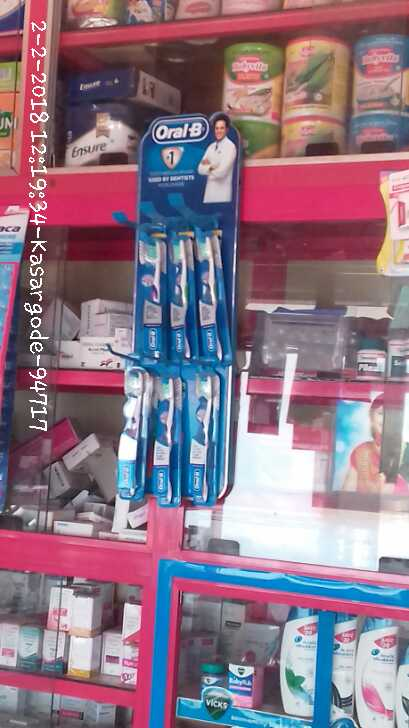beauty: (276, 600, 320, 728), (353, 607, 399, 728), (327, 607, 356, 728)
pharmacy: (192, 643, 262, 712), (115, 362, 147, 493), (198, 230, 229, 361), (188, 369, 219, 499), (157, 365, 183, 499), (165, 232, 192, 361), (135, 235, 162, 361)
